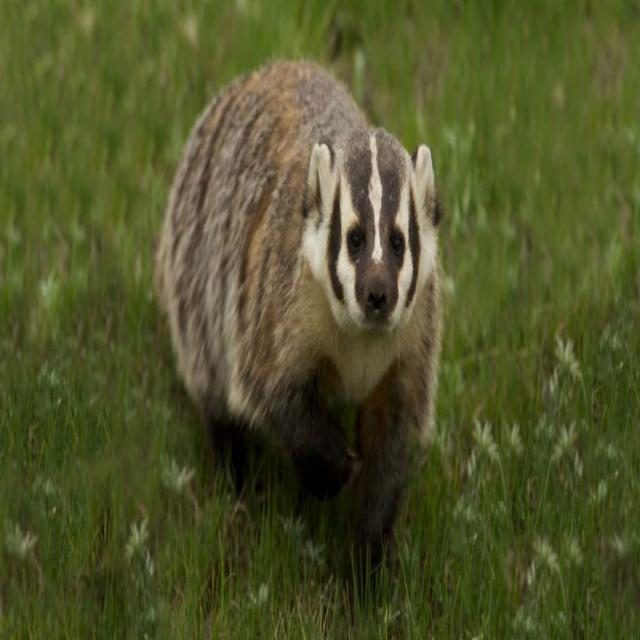Badger: (150, 54, 450, 578)
